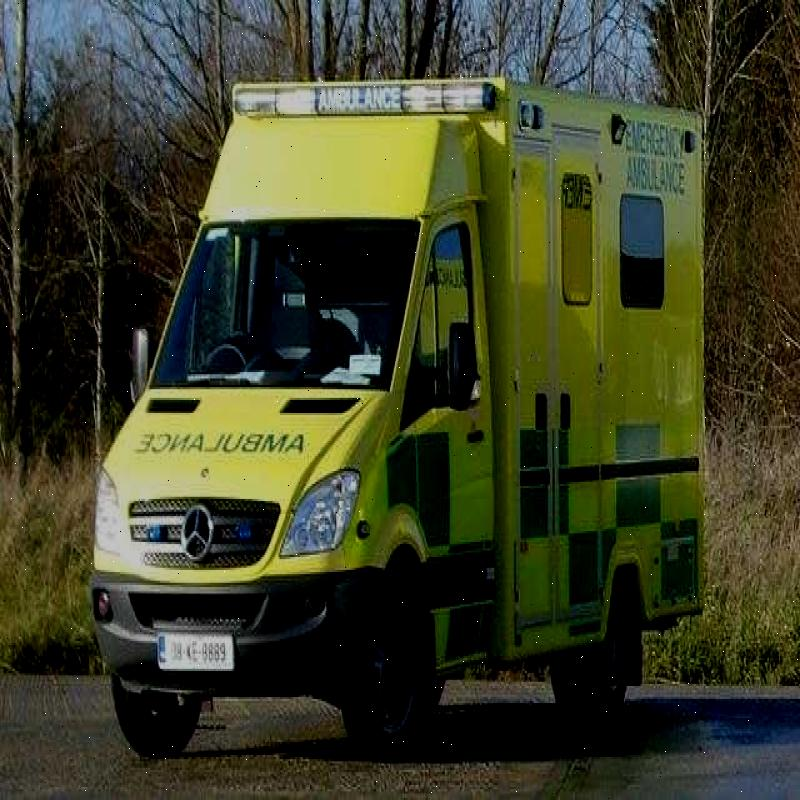AmbulanceSiren: (208, 82, 512, 160)
